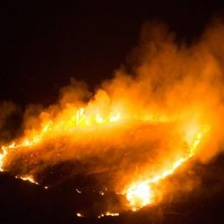fire: (7, 100, 207, 210)
smoke: (115, 34, 224, 89)
